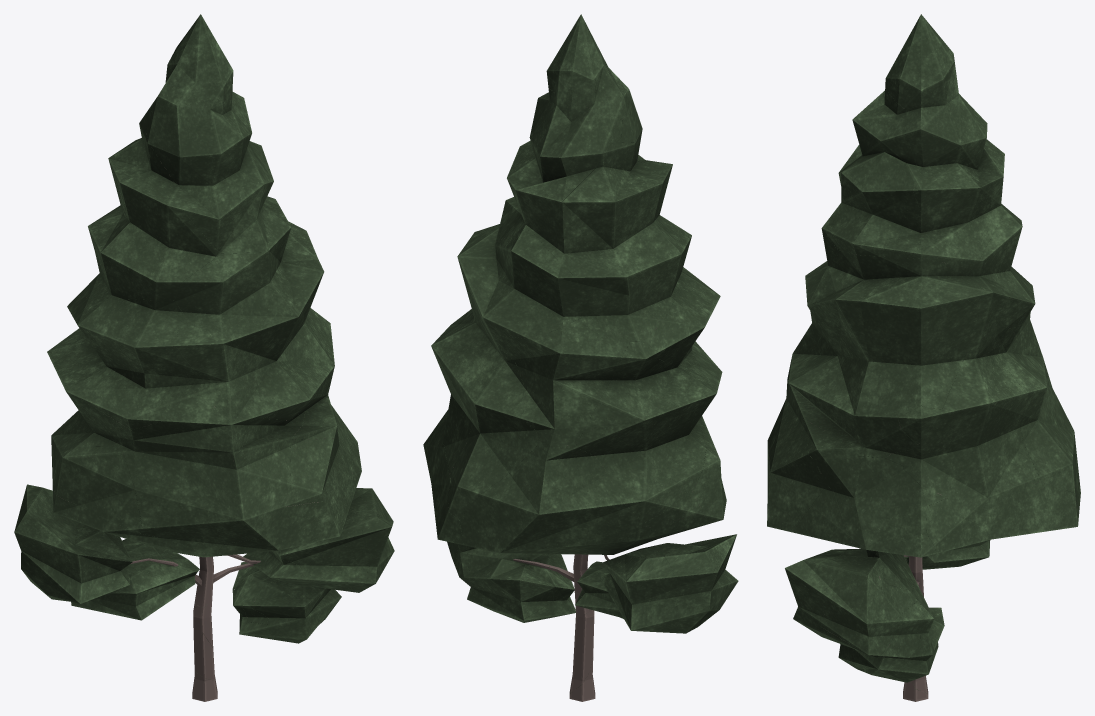
The model's file is TreeFractured.fbx.
3 views of the same model, side by side, from view 1: azimuth 30°, elevation 25°; view 2: azimuth 150°, elevation 25°; view 3: azimuth 270°, elevation 25° (orthographic).
Visible parts, largest first — view 1: SpruceTree_cell.045, SpruceTree_cell.013, SpruceTree_cell.071, SpruceTree_cell.019, SpruceTree_cell.034, SpruceTree_cell.022, SpruceTree_cell.028, SpruceTree_cell.053, SpruceTree_cell.016, SpruceTree_cell.073, SpruceTree_cell.005, SpruceTree_cell.068 (+20 smaller); view 2: SpruceTree_cell.019, SpruceTree_cell.024, SpruceTree_cell.054, SpruceTree_cell.047, SpruceTree_cell.046, SpruceTree_cell.062, SpruceTree_cell.021, SpruceTree_cell.007, SpruceTree_cell.009, SpruceTree_cell.010, SpruceTree_cell.028, SpruceTree_cell.034 (+12 smaller); view 3: SpruceTree_cell.022, SpruceTree_cell.032, SpruceTree_cell.047, SpruceTree_cell.045, SpruceTree_cell.002, SpruceTree_cell.074, SpruceTree_cell.021, SpruceTree_cell.073, SpruceTree_cell.063, SpruceTree_cell.046, SpruceTree_cell.068, SpruceTree_cell.049 (+16 smaller).
Boxes of the visible parts, x1=… form: SpruceTree_cell.045: x1=145, y1=98, x2=291, y2=256; SpruceTree_cell.013: x1=174, y1=252, x2=293, y2=423; SpruceTree_cell.071: x1=117, y1=399, x2=276, y2=552; SpruceTree_cell.019: x1=79, y1=130, x2=220, y2=300; SpruceTree_cell.034: x1=69, y1=296, x2=206, y2=429; SpruceTree_cell.022: x1=252, y1=221, x2=337, y2=439; SpruceTree_cell.028: x1=15, y1=495, x2=133, y2=615; SpruceTree_cell.053: x1=213, y1=437, x2=291, y2=543; SpruceTree_cell.016: x1=53, y1=446, x2=142, y2=532; SpruceTree_cell.073: x1=150, y1=14, x2=233, y2=112; SpruceTree_cell.005: x1=246, y1=550, x2=355, y2=642; SpruceTree_cell.068: x1=217, y1=439, x2=345, y2=555; SpruceTree_cell.019: x1=531, y1=142, x2=691, y2=341; SpruceTree_cell.024: x1=459, y1=442, x2=645, y2=554; SpruceTree_cell.054: x1=488, y1=314, x2=629, y2=445; SpruceTree_cell.047: x1=496, y1=89, x2=621, y2=241; SpruceTree_cell.046: x1=459, y1=230, x2=590, y2=338; SpruceTree_cell.062: x1=576, y1=342, x2=680, y2=522; SpruceTree_cell.021: x1=448, y1=322, x2=539, y2=519; SpruceTree_cell.007: x1=616, y1=357, x2=717, y2=493; SpruceTree_cell.009: x1=578, y1=550, x2=679, y2=633; SpruceTree_cell.010: x1=466, y1=546, x2=572, y2=622; SpruceTree_cell.028: x1=637, y1=539, x2=738, y2=633; SpruceTree_cell.034: x1=644, y1=261, x2=722, y2=389; SpruceTree_cell.022: x1=788, y1=250, x2=992, y2=459; SpruceTree_cell.032: x1=910, y1=315, x2=1040, y2=497; SpruceTree_cell.047: x1=905, y1=85, x2=1005, y2=268; SpruceTree_cell.045: x1=821, y1=89, x2=929, y2=258; SpruceTree_cell.002: x1=814, y1=456, x2=926, y2=550; SpruceTree_cell.074: x1=926, y1=482, x2=1079, y2=553; SpruceTree_cell.021: x1=996, y1=327, x2=1075, y2=493; SpruceTree_cell.073: x1=885, y1=14, x2=957, y2=109; SpruceTree_cell.063: x1=821, y1=565, x2=889, y2=653; SpruceTree_cell.046: x1=970, y1=210, x2=1035, y2=328; SpruceTree_cell.068: x1=767, y1=455, x2=826, y2=532; SpruceTree_cell.049: x1=817, y1=583, x2=917, y2=679.
Size of the model in its own units: 827 by 1634 by 683.
